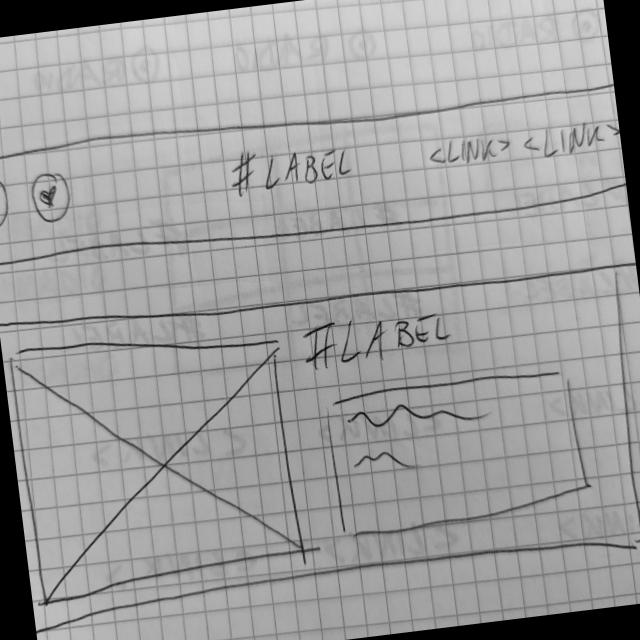container: (1, 243, 640, 638), (1, 70, 628, 278)
icon-button: (28, 169, 77, 228), (1, 174, 14, 234)
image: (6, 315, 309, 608)
label: (299, 303, 456, 378), (226, 137, 358, 201)
link: (521, 116, 623, 166), (426, 131, 514, 174)
textarea: (322, 364, 595, 546)
